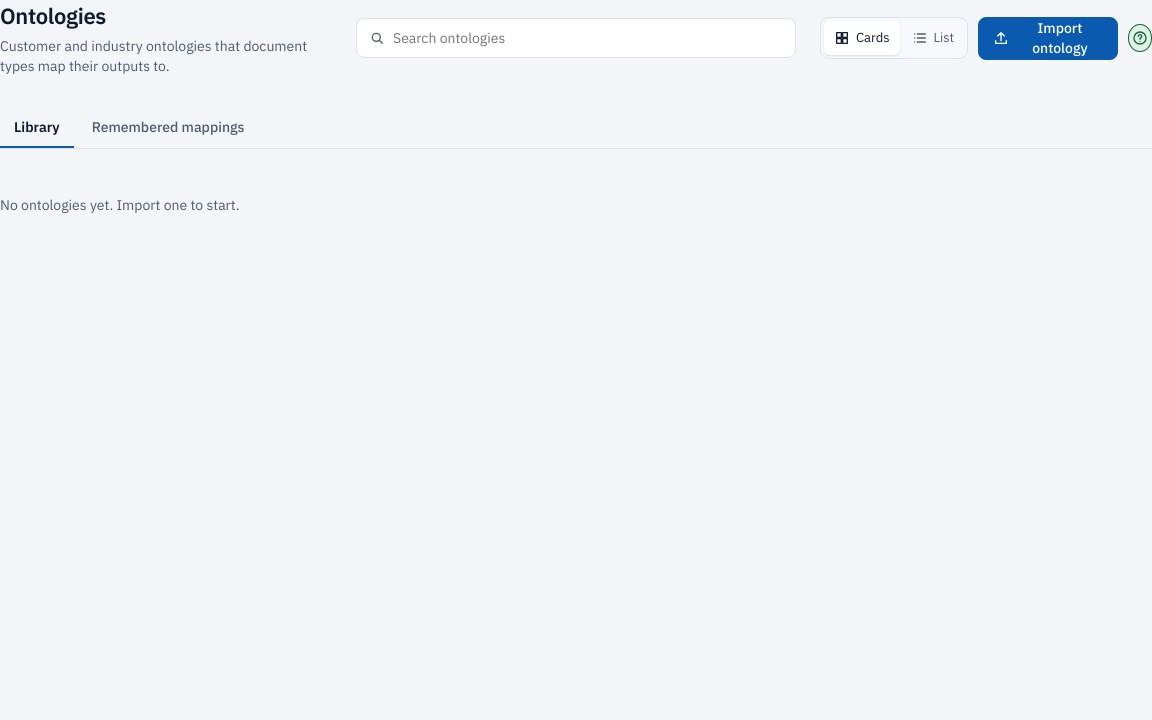
Test: OntologiesPage › explains when URL imports are off
Click the button "Import ontology" at coordinates (1048, 38), box [978,17,1118,60]
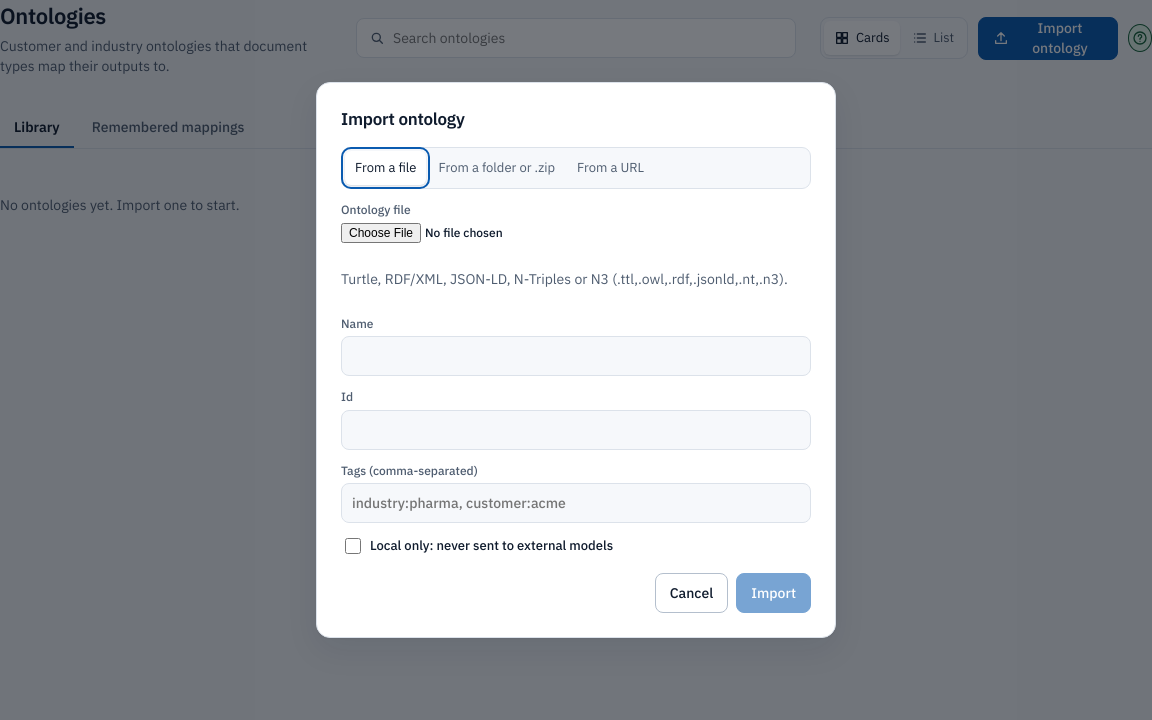
Click the button "From a URL" at coordinates (611, 168), box [567,151,654,185]
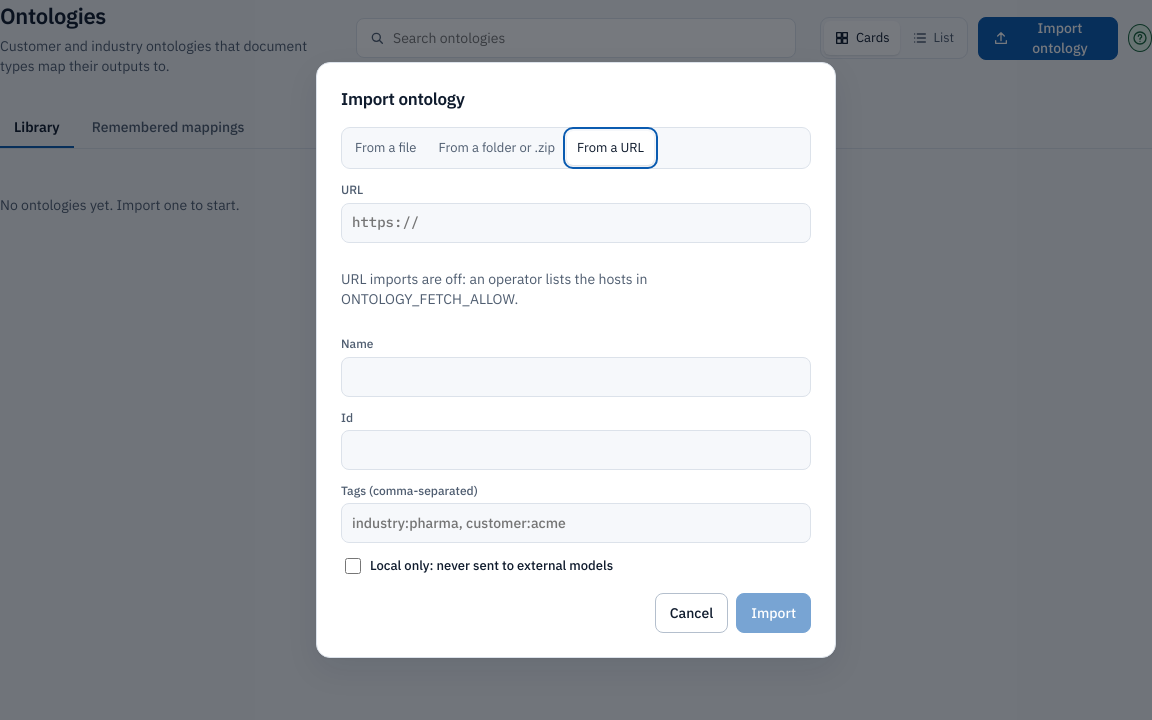
Expected: the text "URL imports are off" is shown, [341,270,647,308]
